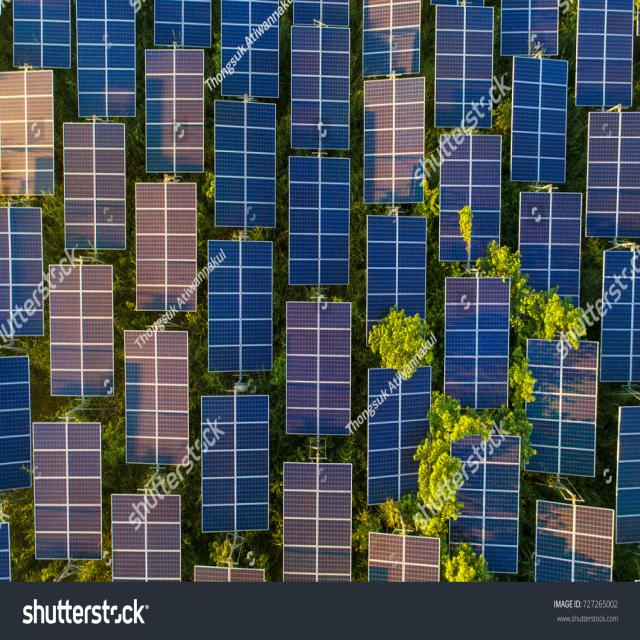clean-solar-panel: (201, 395, 269, 531), (366, 365, 429, 503), (208, 240, 274, 369), (287, 158, 351, 286), (366, 216, 425, 346), (215, 104, 276, 229), (291, 27, 351, 148), (79, 1, 134, 116), (222, 0, 279, 97), (0, 355, 29, 488)
